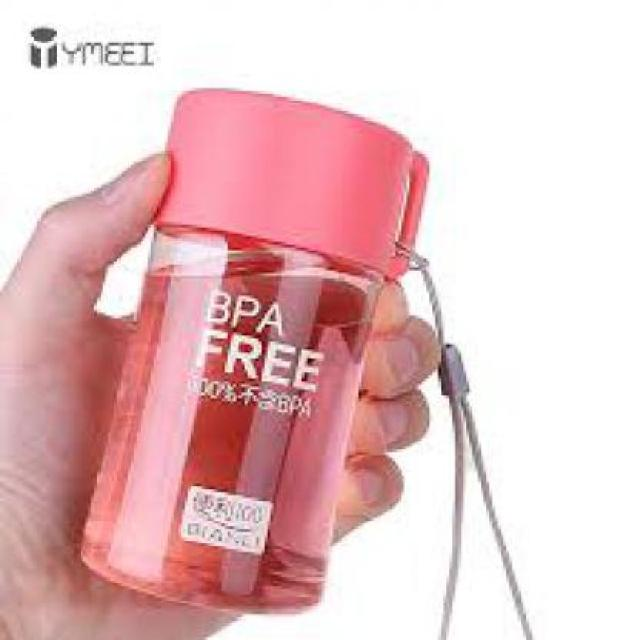Drinking: (137, 48, 415, 623)
